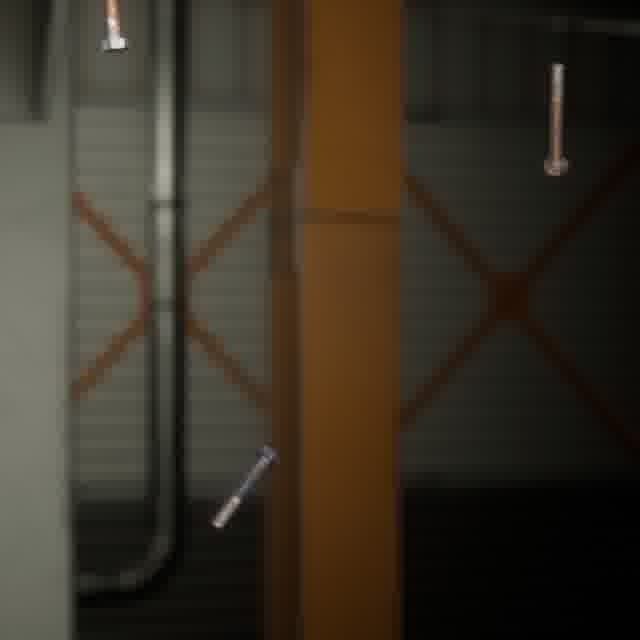bolt: (206, 440, 285, 535), (538, 59, 573, 180), (96, 0, 134, 57)
